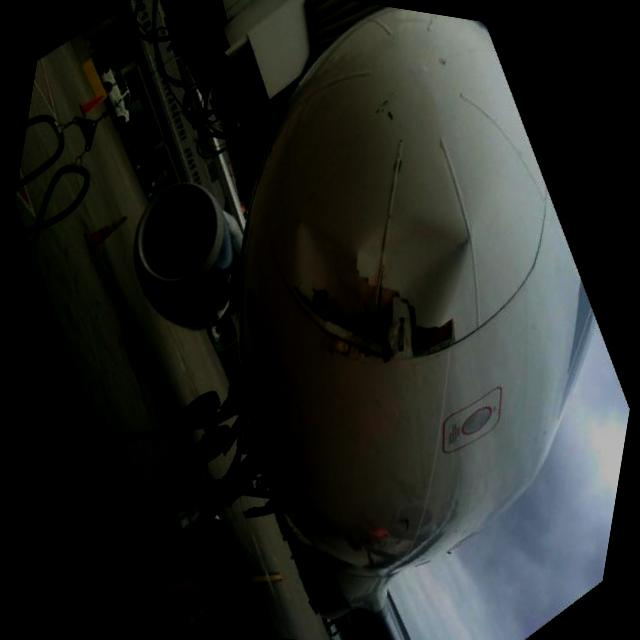dent: (351, 207, 470, 334), (282, 212, 366, 299)
